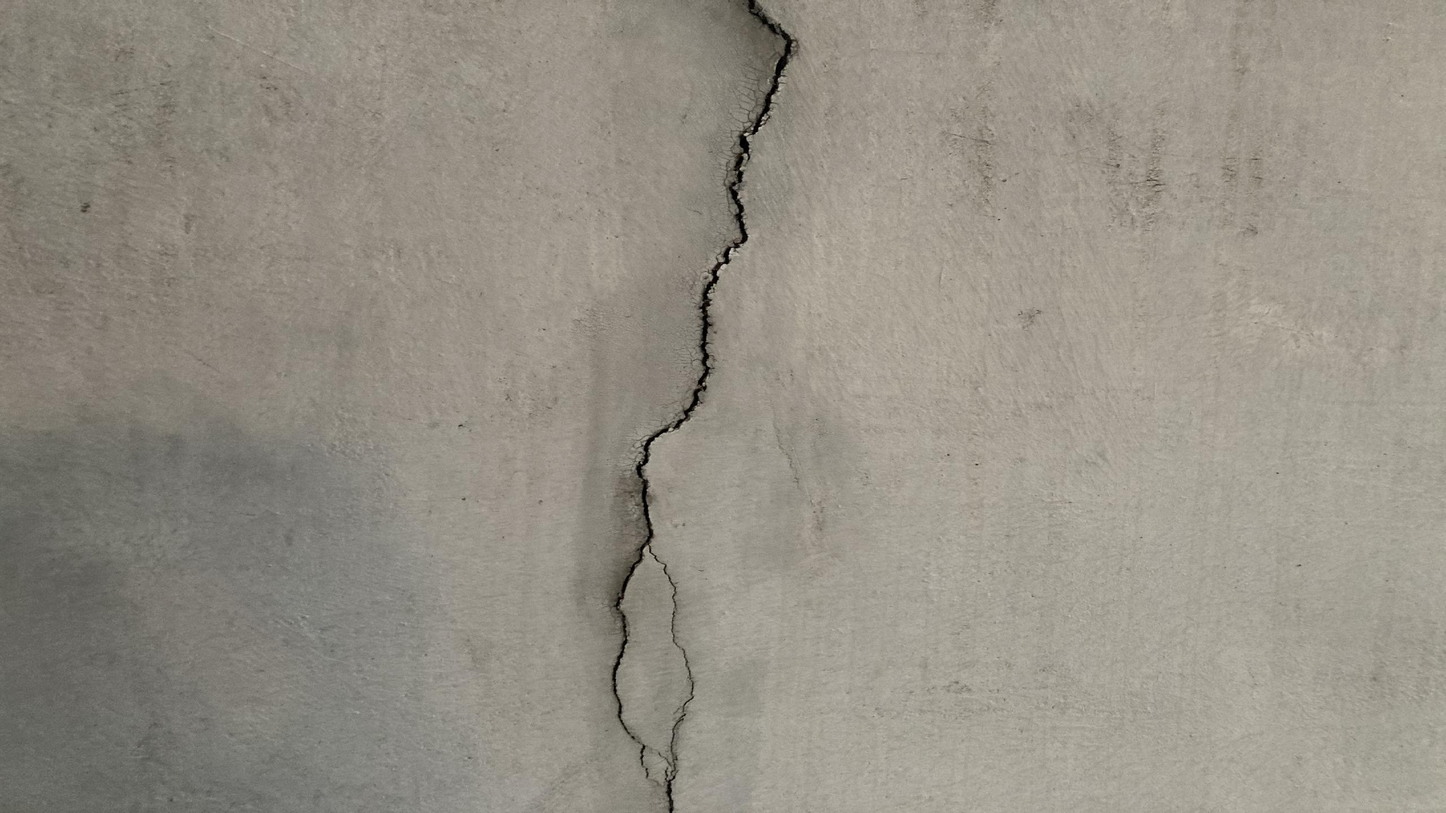crack: (611, 0, 792, 810)
